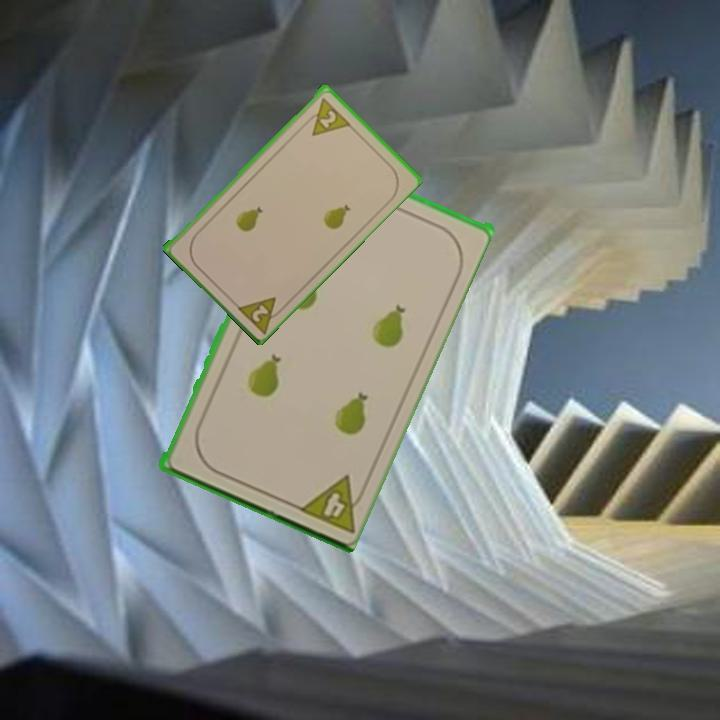2p: (232, 292, 289, 336), (300, 94, 352, 139)
4p: (292, 470, 371, 536)
